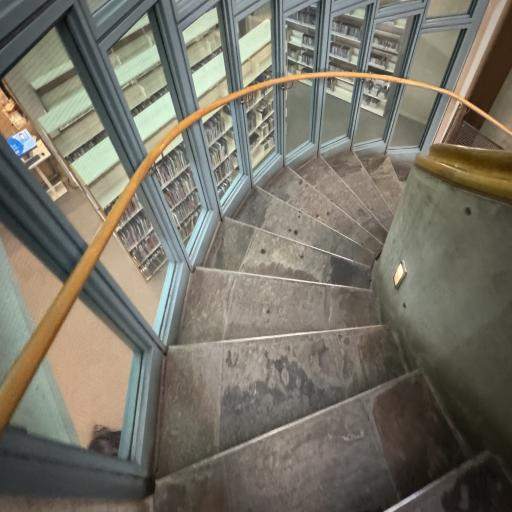Stairs: (153, 153, 510, 512), (155, 372, 464, 512), (158, 326, 406, 476), (178, 268, 379, 344), (204, 218, 370, 288), (234, 187, 381, 266), (264, 167, 386, 253), (297, 152, 393, 242), (386, 452, 512, 512), (361, 154, 403, 214)
